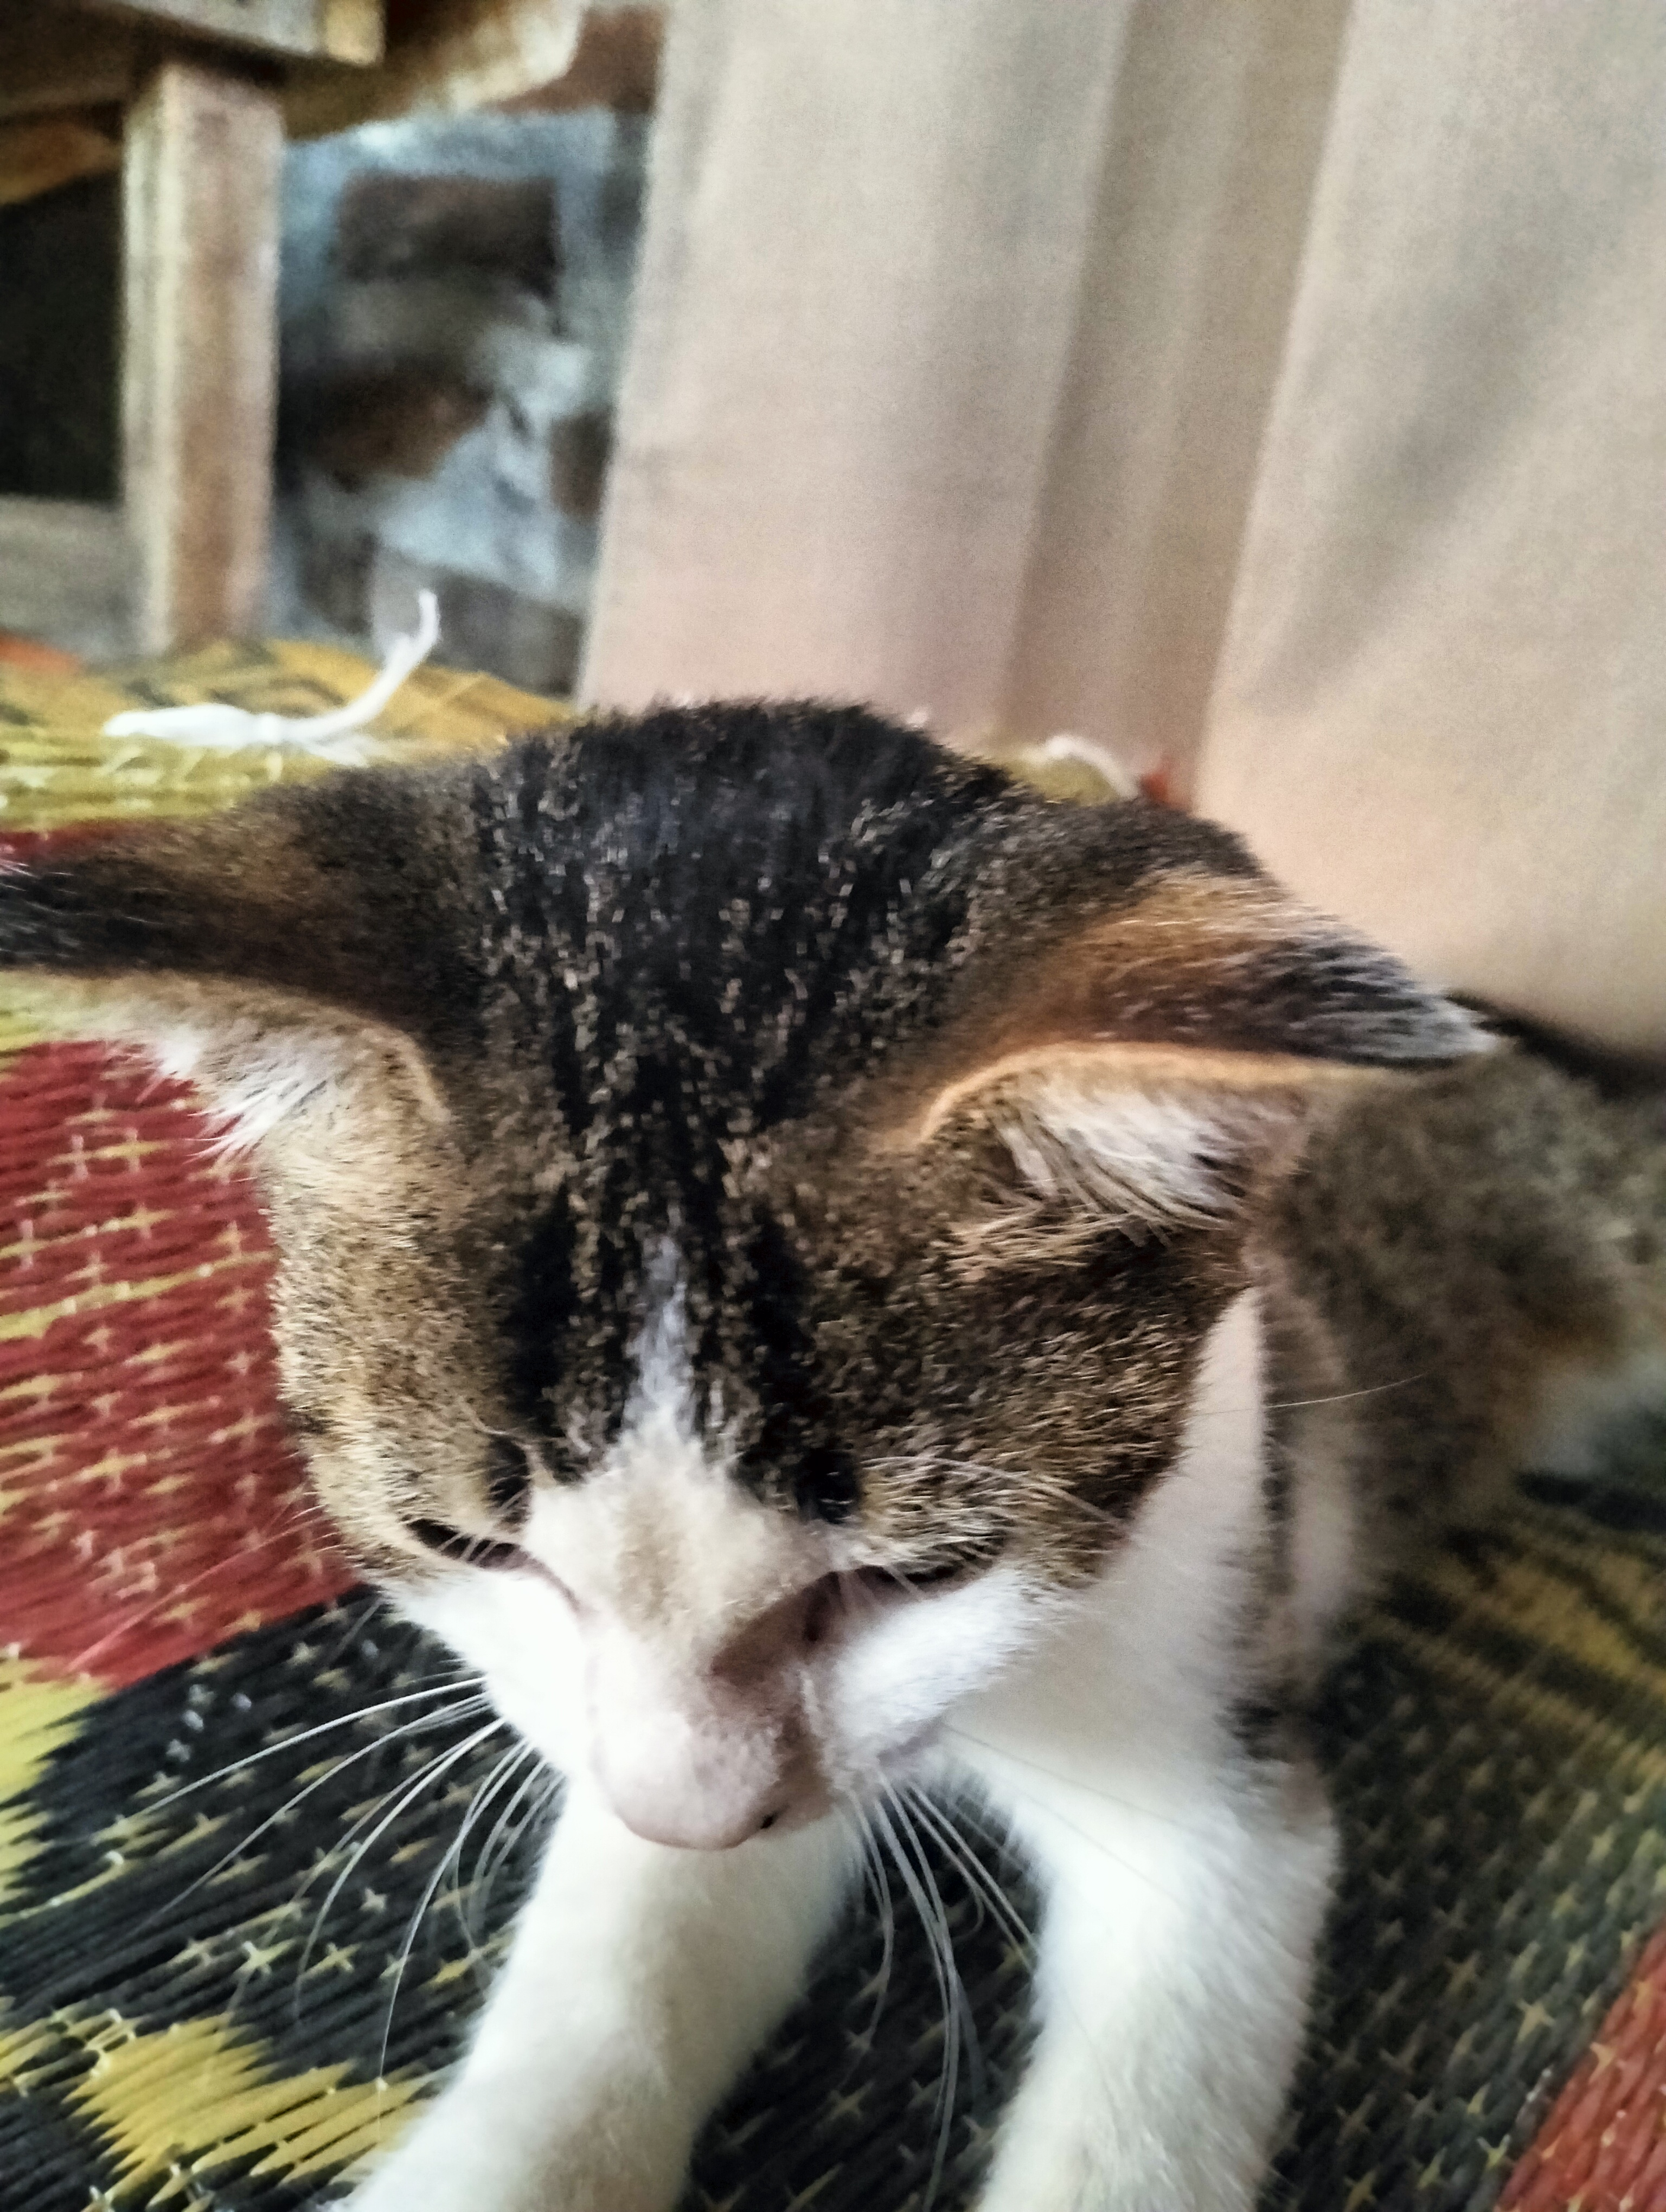miki: (21, 623, 1591, 1927)
